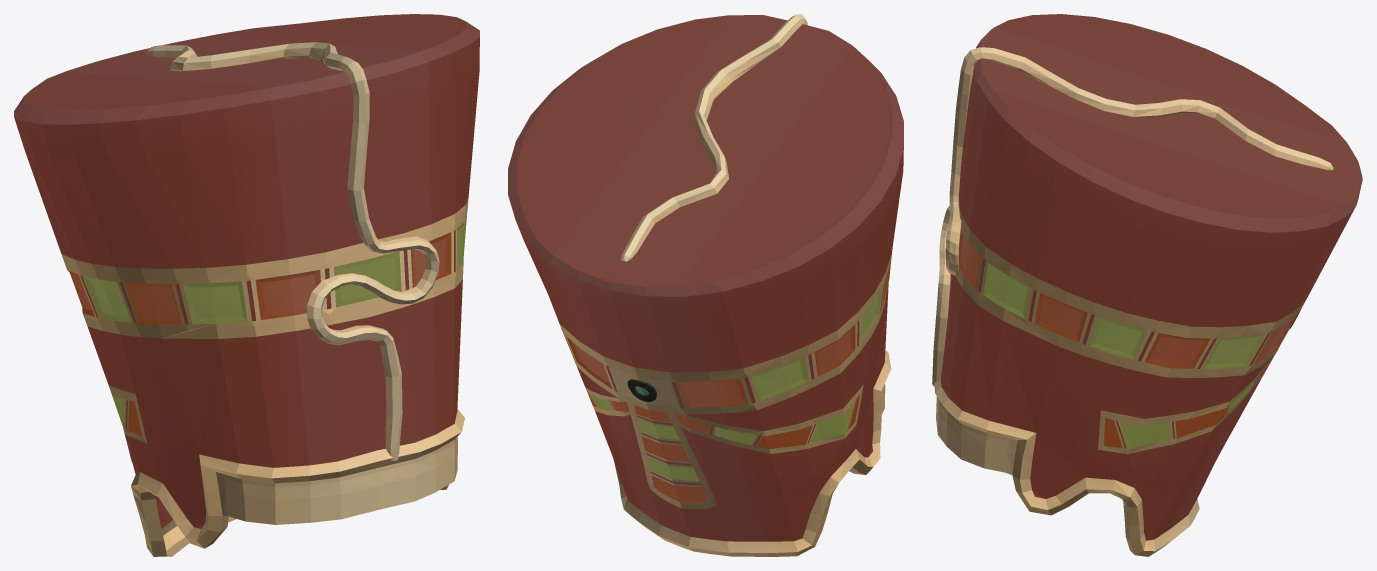
File: nefertitiHatFemale.glb
3 views of the same model, side by side, from view 1: azimuth 30°, elevation 25°; view 2: azimuth 150°, elevation 25°; view 3: azimuth 270°, elevation 25° (orthographic). The views are drawn at different scales.
Parts seen in each view (by area): view 1: nefertitiHat; view 2: nefertitiHat; view 3: nefertitiHat.
Part boxes in pixels (bbox=[...]): nefertitiHat: bbox=[14, 14, 479, 556]; nefertitiHat: bbox=[508, 14, 903, 556]; nefertitiHat: bbox=[932, 14, 1362, 556].
Bounding box in the file's own units: 0.428 × 0.538 × 0.448.
